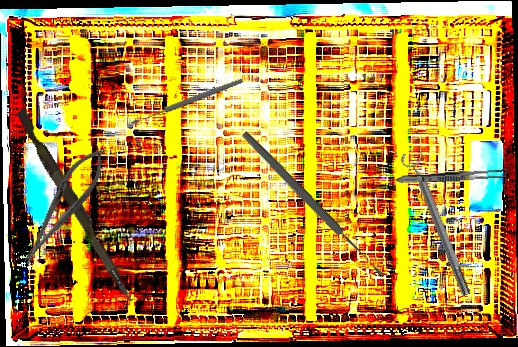Dressing Forceps: (395, 167, 510, 186)
Fixation Ring: (398, 147, 478, 300)
Needle Holder: (10, 140, 116, 272)
Pusher: (10, 108, 142, 304)
Surgical Spoon: (240, 129, 386, 280), (129, 76, 245, 127)
